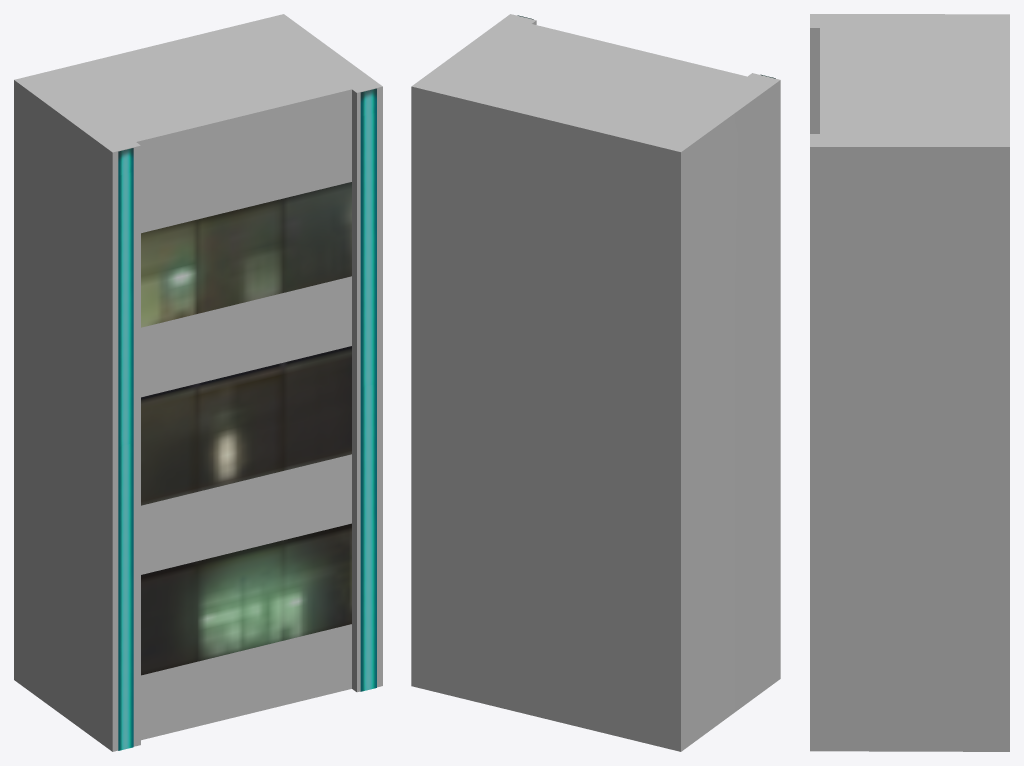
The model's file is hirise_side_02b.fbx.
3 views of the same model, side by side, from view 1: azimuth 30°, elevation 25°; view 2: azimuth 150°, elevation 25°; view 3: azimuth 270°, elevation 25° (orthographic).
Parts seen in each view (by area): view 1: hirise_side_02b; view 2: hirise_side_02b; view 3: hirise_side_02b.
Part boxes in pixels (x1=…): hirise_side_02b: x1=14, y1=14, x2=382, y2=751; hirise_side_02b: x1=411, y1=14, x2=780, y2=751; hirise_side_02b: x1=810, y1=14, x2=1009, y2=751.
Bounding box in the file's own units: 5.45 × 11.57 × 3.48.
